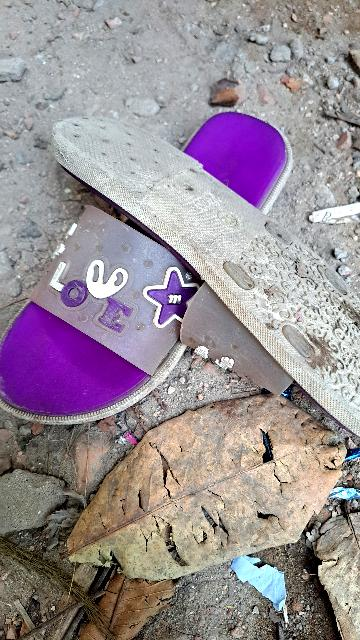sandal: (47, 48, 360, 447), (0, 70, 302, 430)
